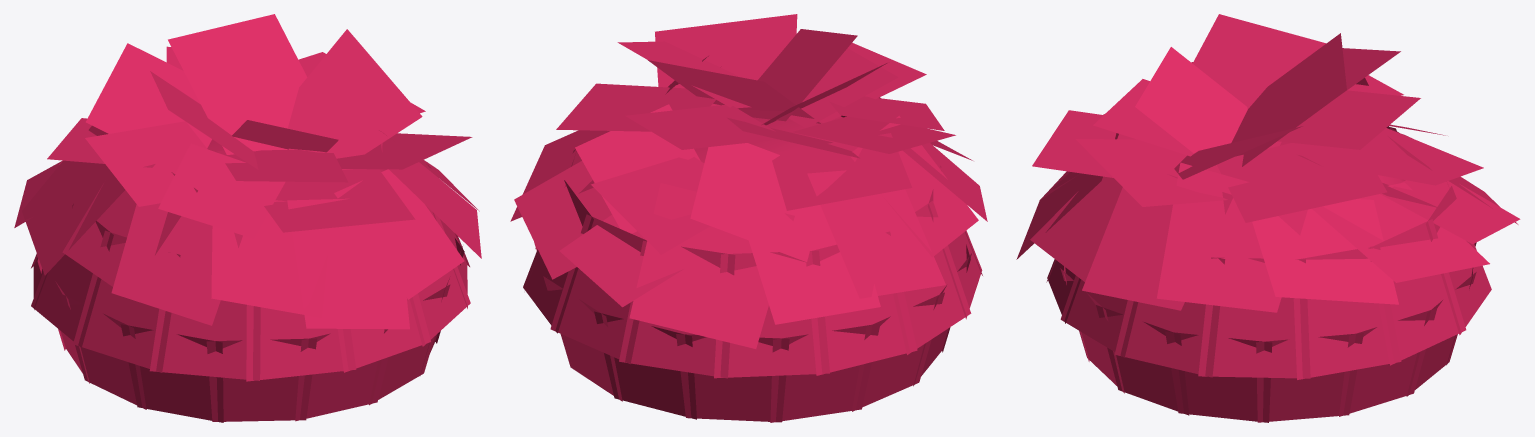
The model's file is Forest_Bush.fbx.
The picture shows the model from 3 angles, left to right: view 1: azimuth 30°, elevation 25°; view 2: azimuth 150°, elevation 25°; view 3: azimuth 270°, elevation 25°; orthographic projection. The views are drawn at different scales.
Visible parts, largest first — view 1: Forest_Bush; view 2: Forest_Bush; view 3: Forest_Bush.
Boxes of the visible parts, <box> form: Forest_Bush: <box>14,14,481,422</box>; Forest_Bush: <box>510,14,987,422</box>; Forest_Bush: <box>1016,14,1520,422</box>.
Bounding box in the file's own units: 46.66 × 32.8 × 51.86.
